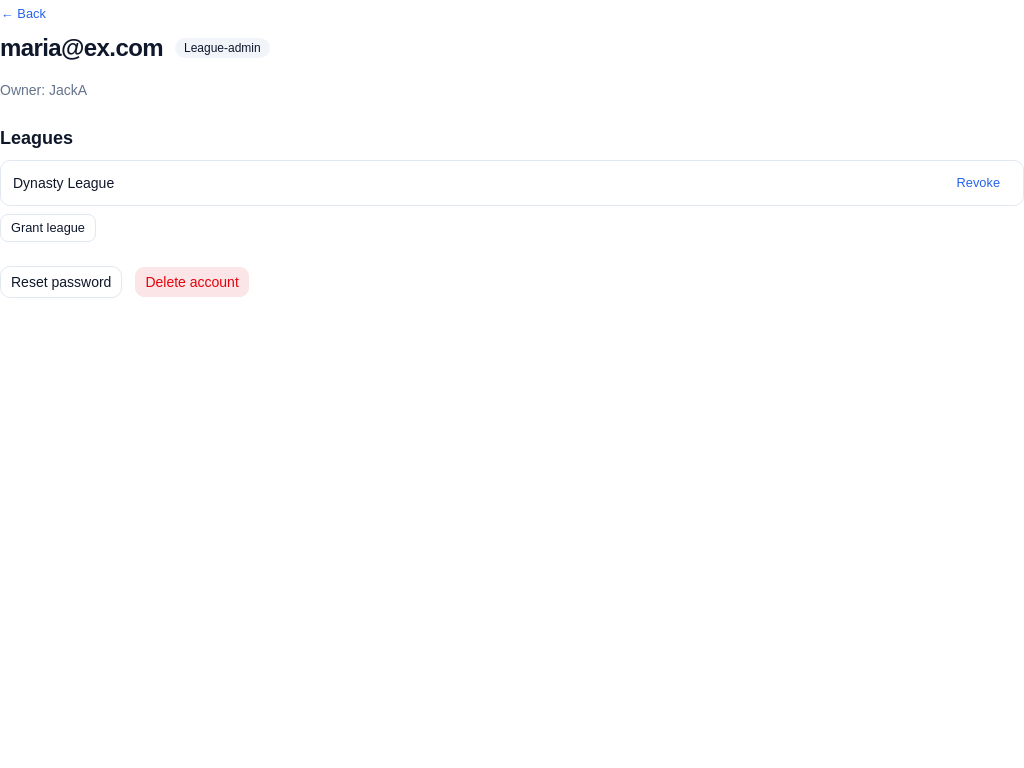
Test: reset password requires a matching 12-char password
The image size is (1024, 768).
Click the button "Reset password" at (61, 282), box [0,266,122,298]
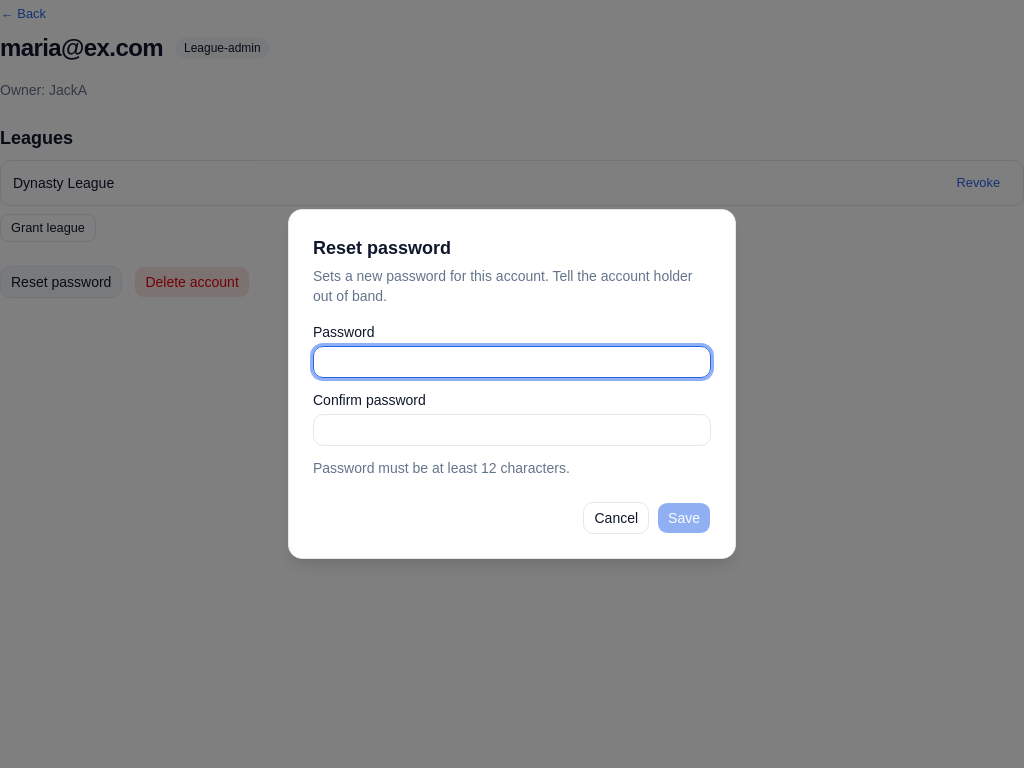
Expected: the button "Save" is disabled, [657,502,711,534]
Type "longenoughpw123" into the password field labelled "Password" at (512, 362), box [313,346,711,378]
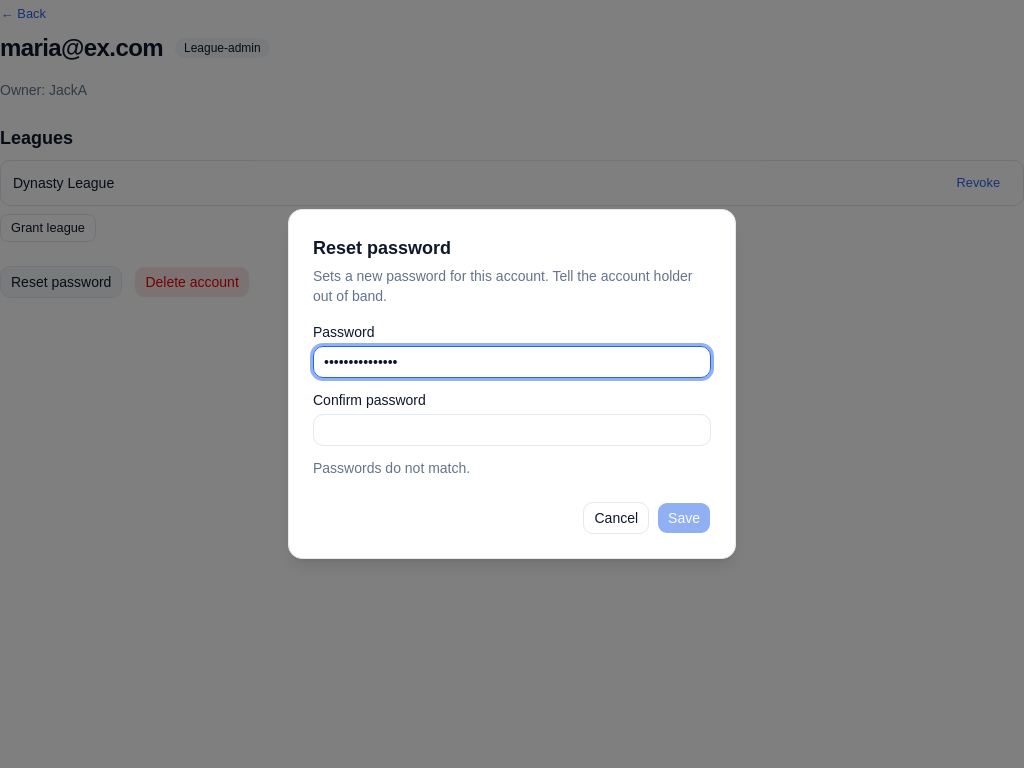
Type "longenoughpw123" into the password field labelled "Confirm password" at (512, 430), box [313,414,711,446]
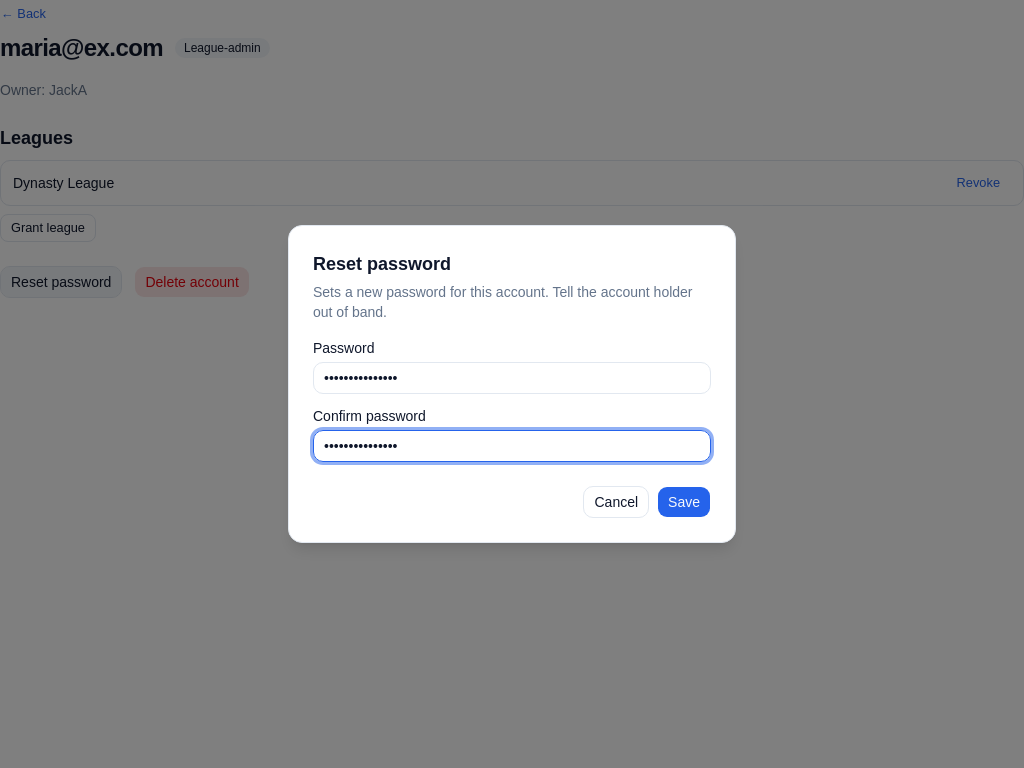
Expected: the button "Save" is enabled, [657,486,711,518]
